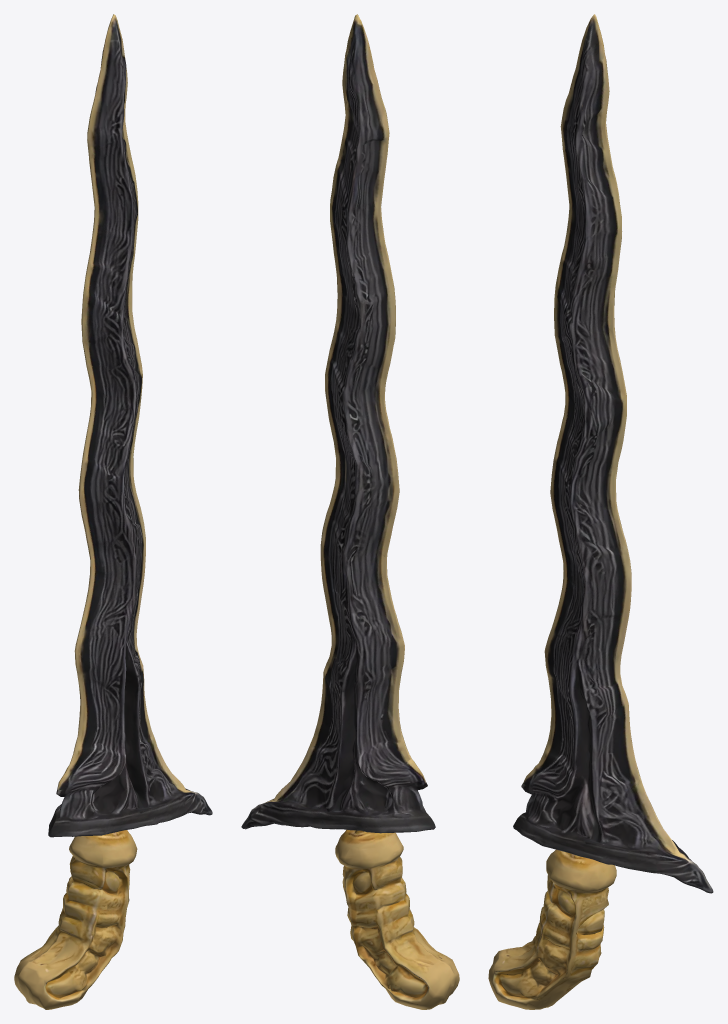
Rendered from kris.glb.
The picture shows the model from 3 angles, left to right: view 1: azimuth 30°, elevation 25°; view 2: azimuth 150°, elevation 25°; view 3: azimuth 330°, elevation 25°; orthographic projection. The views are drawn at different scales.
Visible parts, largest first — view 1: tripo_node_0565c484-fc76-4cb7-894b-64b59e5e367b; view 2: tripo_node_0565c484-fc76-4cb7-894b-64b59e5e367b; view 3: tripo_node_0565c484-fc76-4cb7-894b-64b59e5e367b.
Boxes of the visible parts, x1,y1,x2,y2 form: tripo_node_0565c484-fc76-4cb7-894b-64b59e5e367b: (14,14,212,1009); tripo_node_0565c484-fc76-4cb7-894b-64b59e5e367b: (241,14,459,1009); tripo_node_0565c484-fc76-4cb7-894b-64b59e5e367b: (488,14,713,1009).
Size of the model in its own units: 0.3504 by 1.6 by 0.1137.
1 material, 1 textured.
